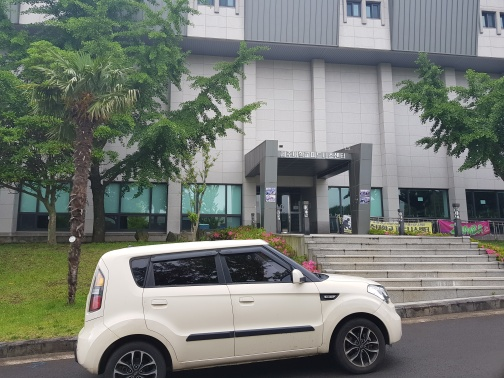Gym: (123, 7, 493, 232), (239, 135, 374, 231)
